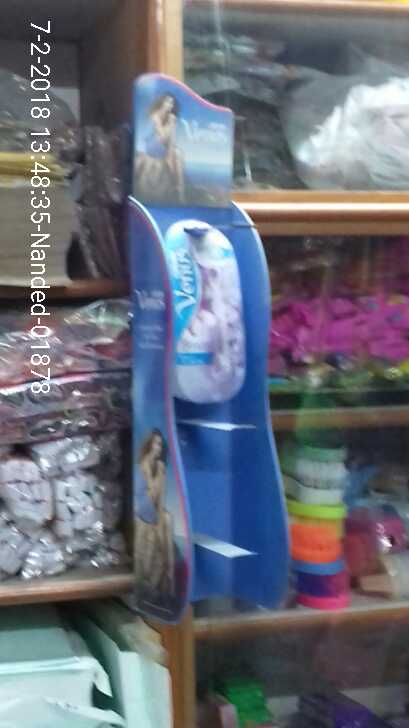venus: (164, 219, 253, 407)
